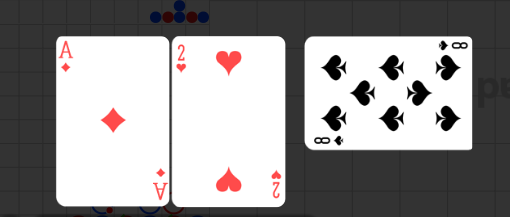2H: (175, 43, 188, 75)
8S: (436, 39, 469, 51)
AD: (59, 40, 75, 75)
